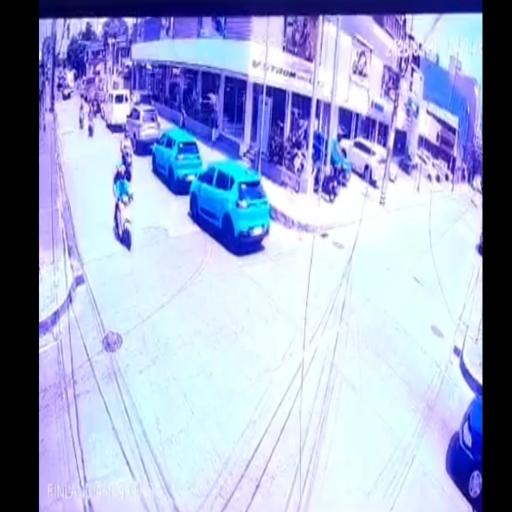Car: (192, 163, 270, 258), (445, 395, 482, 512), (150, 126, 202, 192), (344, 136, 389, 184), (312, 132, 352, 186), (124, 103, 160, 153), (102, 89, 131, 130), (414, 150, 445, 183), (130, 90, 152, 108), (61, 83, 73, 100)
Motor: (113, 180, 133, 250), (314, 159, 339, 202), (120, 131, 133, 169), (178, 100, 188, 130), (87, 111, 95, 137), (78, 106, 85, 129)
